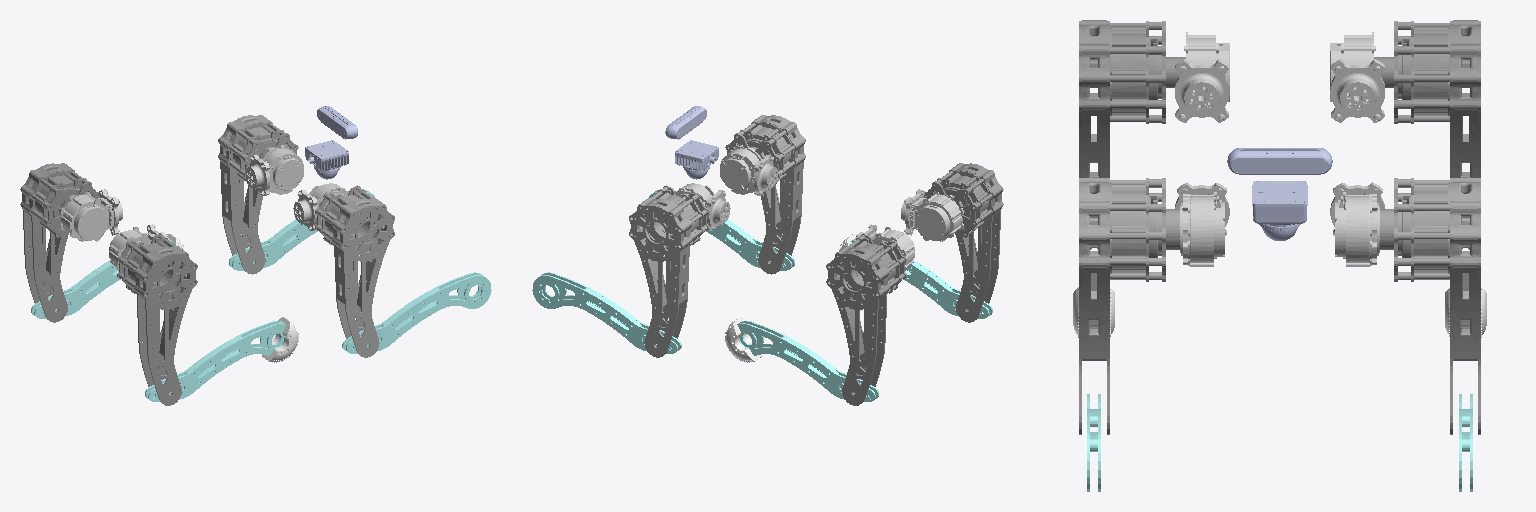
robot.urdf — EVA02_description:
<?xml version='1.0' encoding='UTF-8'?>
<robot name="EVA02_description">

  <!-- body========================================= -->
  <link name="base">
    <inertial>
      <origin xyz="0.011858 0.000475 0.060237" rpy="0 0 0" />
      <mass value="2.03" />
      <inertia ixx="0.013522598" ixy="-0.000075348" ixz="-0.001446647" iyy="0.031044571"
        iyz="-0.000032615" izz="0.035960924" />
    </inertial>
    <visual>
      <origin xyz="0 0 0" rpy="0 0 0" />
      <geometry>
        <mesh filename="package://EVA02_description/meshes_obj/body.obj" />
      </geometry>
      <material name="">
        <color rgba="0.698039215686274 0.698039215686274 0.698039215686274 1" />
      </material>
    </visual>
    <collision>
      <origin xyz="0 0 0.07" rpy="0 0 0" />
      <geometry>
        <box size="0.50 0.22 0.14" />
      </geometry>
    </collision>
    <collision>
      <origin xyz="0.22 0 0.15" rpy="0 0 0" />
      <geometry>
        <box size="0.13 0.09 0.025" />
      </geometry>
    </collision>
  </link>

  <!-- camera======================================== -->
  <link name="camera">
    <inertial>
      <origin xyz="0.013017 0 0" rpy="0 0 0" />
      <mass value="0.10" />
      <inertia ixx="1.19066e-4" ixy="3.2e-8" ixz="-1.18e-7" iyy="2.8028e-5" iyz="5.6e-8"
        izz="1.35348e-4" />
    </inertial>
    <visual>
      <origin xyz="0 0 0" rpy="0 0 0" />
      <geometry>
        <mesh filename="package://EVA02_description/meshes_obj/camera.obj" />
      </geometry>
      <material name="">
        <color rgba="0.792156862745098 0.819607843137255 0.933333333333333 1" />
      </material>
    </visual>
    <collision>
      <origin xyz="0 0 0" rpy="0 0 0" />
      <geometry>
        <box size="0.03 0.12 0.03" />
      </geometry>
    </collision>
  </link>

  <joint name="camera_joint" type="fixed">
    <origin xyz="0.28698 0.0 0.1895" rpy="0 0 0" />
    <parent link="base" />
    <child link="camera" />
    <axis xyz="0 0 0" />
  </joint>

  <!-- lidar========================================= -->
  <link name="lidar">
    <inertial>
      <origin xyz="-0.000200 0.000006 0.017467" rpy="0 0 0" />
      <mass value="0.265" />
      <inertia ixx="0.000123746" ixy="0.000000011" ixz="0.000000020" iyy="0.000133349"
        iyz="0.000000035" izz="0.000132274" />
    </inertial>
    <visual>
      <origin xyz="0 0 0" rpy="0 0 0" />
      <geometry>
        <mesh filename="package://EVA02_description/meshes_obj/lidar.obj" />
      </geometry>
      <material name="">
        <color rgba="0.792156862745098 0.819607843137255 0.929411764705882 1" />
      </material>
    </visual>
    <collision>
      <origin xyz="0 0 0.02" rpy="0 0 0" />
      <geometry>
        <box size="0.065 0.065 0.035" />
      </geometry>
    </collision>
    <collision>
      <origin xyz="0 0 0.00" rpy="0 0 0" />
      <geometry>
        <sphere radius="0.0225" />
      </geometry>
    </collision>
  </link>

  <joint name="lidar_joint" type="fixed">
    <origin xyz="0.264 0.0 0.0985" rpy="0 0 0" />
    <parent link="base" />
    <child link="lidar" />
    <axis xyz="0 0 0" />
  </joint>

  <!-- front left leg========================================= -->
  <link name="FL_hip">
    <inertial>
      <origin xyz="-0.013264 -0.000827 0.000642" rpy="0 0 0" />
      <mass value="0.606" />
      <inertia ixx="0.000428373" ixy="0.000001930" ixz="-0.000005377" iyy="0.000778855"
        iyz="0.000000361" izz="0.000676550" />
    </inertial>
    <visual>
      <origin xyz="0 0 0" rpy="0 0 0" />
      <geometry>
        <mesh filename="package://EVA02_description/meshes_obj/FL_hip.obj" />
      </geometry>
      <material name="">
        <color rgba="0.850980392156863 0.850980392156863 0.850980392156863 1" />
      </material>
    </visual>
    <collision>
      <origin xyz="0 0.09 0" rpy="1.57079632679 0 0" />
      <geometry>
        <cylinder radius="0.060" length="0.11" />
      </geometry>
    </collision>
  </link>

  <joint name="FL_hip_joint" type="revolute">
    <origin xyz="0.2181 0.09179 0.06815" rpy="0 0 0" />
    <parent link="base" />
    <child link="FL_hip" />
    <axis xyz="1 0 0" />
    <limit lower="-1.0472" upper="1.0472" effort="17.0" velocity="35.0" />
  </joint>

  <link name="FL_thigh">
    <inertial>
      <origin xyz="-0.001468 -0.034831 -0.021338" rpy="0 0 0" />
      <mass value="1.542" />
      <inertia ixx="0.007323179" ixy="0.000090584" ixz="-0.000250133" iyy="0.006895677"
        iyz="0.001140375" izz="0.002574539" />
    </inertial>
    <visual>
      <origin xyz="0 0 0" rpy="0 0 0" />
      <geometry>
        <mesh filename="package://EVA02_description/meshes_obj/FL_thigh.obj" />
      </geometry>
      <material name="">
        <color rgba="0.698039215686274 0.698039215686274 0.698039215686274 1" />
      </material>
    </visual>
    <collision>
      <origin xyz="0 0 -0.120" rpy="0 0 0" />
      <geometry>
        <box size="0.050 0.044 0.250" />
      </geometry>
    </collision>
  </link>

  <joint name="FL_thigh_joint" type="revolute">
    <origin xyz="0 0.1271 0" rpy="0 0 0" />
    <parent link="FL_hip" />
    <child link="FL_thigh" />
    <axis xyz="0 1 0" />
    <limit lower="-1.5708" upper="3.4907" effort="17.0" velocity="35.0" />
  </joint>

  <link name="FL_calf">
    <inertial>
      <origin xyz="0.005417 -0.000207 -0.130693" rpy="0 0 0" />
      <mass value="0.227" />
      <inertia ixx="0.001988633" ixy="0.000000287" ixz="0.000050642" iyy="0.002045846"
        iyz="-0.000002846" izz="0.000076486" />
    </inertial>
    <visual>
      <origin xyz="0 0 0" rpy="0 0 0" />
      <geometry>
        <mesh filename="package://EVA02_description/meshes_obj/FL_calf.obj" />
      </geometry>
      <material name="">
        <color rgba="0.752941176470588 1 1 1" />
      </material>
    </visual>
    <collision name="FL_calf_knee">
      <origin xyz="-0.0048 0 -0.02" rpy="0 0.131 0" />
      <geometry>
        <box size="0.048 0.019 0.05" />
      </geometry>
    </collision>
    <collision name="FL_calf_main">
      <origin xyz="0.006 0 -0.1" rpy="0 -0.185 0" />
      <geometry>
        <box size="0.047 0.019 0.13" />
      </geometry>
    </collision>
    <collision name="FL_calf_ankle">
      <origin xyz="0.015 0 -0.185" rpy="0 0.08 0" />
      <geometry>
        <box size="0.05 0.019 0.065" />
      </geometry>
    </collision>
  </link>

  <joint name="FL_calf_joint" type="revolute">
    <origin xyz="0 0 -0.240" rpy="0 0 0" />
    <parent link="FL_thigh" />
    <child link="FL_calf" />
    <axis xyz="0 1 0" />
    <limit lower="-2.7227" upper="-0.83776" effort="60.0" velocity="17.0" />
  </joint>

  <link name="FL_foot">
    <inertial>
      <origin xyz="-0.0141710 0.000000008 -0.014459" rpy="0 0 0" />
      <mass value="0.080" />
      <inertia ixx="0.000042354" ixy="0.000000000" ixz="0.000016450" iyy="0.000053066"
        iyz="0.000000000" izz="0.000043020" />
    </inertial>
    <visual>
      <origin xyz="0 0 0" rpy="0 0 0" />
      <geometry>
        <mesh filename="package://EVA02_description/meshes_obj/FL_foot.obj" />
      </geometry>
      <material name="">
        <color rgba="0.501960784313725 0.501960784313725 0.501960784313725 1" />
      </material>
    </visual>
    <collision name="FL_calf_tip">
      <origin xyz="0.00 0 0.0" rpy="1.57079632679 0 0" />
      <geometry>
        <cylinder radius="0.045" length="0.0375" />
      </geometry>
    </collision>
  </link>

  <joint name="FL_foot_joint" type="fixed" dont_collapse="true">
    <origin xyz="0 0 -0.250" rpy="0 0 0" />
    <parent link="FL_calf" />
    <child link="FL_foot" />
    <axis xyz="0 0 0" />
  </joint>

  <!-- front right leg========================================= -->
  <link name="FR_hip">
    <inertial>
      <origin xyz="-0.013264 0.000827 0.000642" rpy="0 0 0" />
      <mass value="0.606" />
      <inertia ixx="0.000428373" ixy="-0.000001930" ixz="-0.000005377" iyy="0.000778855"
        iyz="-0.000000361" izz="0.000676550" />
    </inertial>
    <visual>
      <origin xyz="0 0 0" rpy="0 0 0" />
      <geometry>
        <mesh filename="package://EVA02_description/meshes_obj/FL_hip.obj" scale="1 -1 1" />
      </geometry>
      <material name="">
        <color rgba="0.850980392156863 0.850980392156863 0.850980392156863 1" />
      </material>
    </visual>
    <collision>
      <origin xyz="0 -0.09 0" rpy="1.57079632679 0 0" />
      <geometry>
        <cylinder radius="0.060" length="0.11" />
      </geometry>
    </collision>
  </link>

  <joint name="FR_hip_joint" type="revolute">
    <origin xyz="0.2181 -0.09179 0.06815" rpy="0 0 0" />
    <parent link="base" />
    <child link="FR_hip" />
    <axis xyz="1 0 0" />
    <limit lower="-1.0472" upper="1.0472" effort="17.0" velocity="35.0" />
  </joint>

  <link name="FR_thigh">
    <inertial>
      <origin xyz="-0.001468 0.034831 -0.021338" rpy="0 0 0" />
      <mass value="1.542" />
      <inertia ixx="0.007323179" ixy="-0.000090584" ixz="-0.000250133" iyy="0.006895677"
        iyz="-0.001140375" izz="0.002574539" />
    </inertial>
    <visual>
      <origin xyz="0 0 0" rpy="0 0 0" />
      <geometry>
        <mesh filename="package://EVA02_description/meshes_obj/FL_thigh.obj" scale="1 -1 1" />
      </geometry>
      <material name="">
        <color rgba="0.698039215686274 0.698039215686274 0.698039215686274 1" />
      </material>
    </visual>
    <collision>
      <origin xyz="0 0 -0.120" rpy="0 0 0" />
      <geometry>
        <box size="0.050 0.044 0.250" />
      </geometry>
    </collision>
  </link>

  <joint name="FR_thigh_joint" type="revolute">
    <origin xyz="0 -0.1271 0" rpy="0 0 0" />
    <parent link="FR_hip" />
    <child link="FR_thigh" />
    <axis xyz="0 1 0" />
    <limit lower="-1.5708" upper="3.4907" effort="17.0" velocity="35.0" />
  </joint>

  <link name="FR_calf">
    <inertial>
      <origin xyz="0.005417 0.000207 -0.130693" rpy="0 0 0" />
      <mass value="0.227" />
      <inertia ixx="0.001988633" ixy="-0.000000287" ixz="0.000050642" iyy="0.002045846"
        iyz="0.000002846" izz="0.000076486" />
    </inertial>
    <visual>
      <origin xyz="0 0 0" rpy="0 0 0" />
      <geometry>
        <mesh filename="package://EVA02_description/meshes_obj/FL_calf.obj" scale="1 -1 1" />
      </geometry>
      <material name="">
        <color rgba="0.752941176470588 1 1 1" />
      </material>
    </visual>
    <collision name="FR_calf_knee">
      <origin xyz="-0.0048 0 -0.02" rpy="0 0.131 0" />
      <geometry>
        <box size="0.048 0.019 0.05" />
      </geometry>
    </collision>
    <collision name="FR_calf_main">
      <origin xyz="0.006 0 -0.1" rpy="0 -0.185 0" />
      <geometry>
        <box size="0.047 0.019 0.13" />
      </geometry>
    </collision>
    <collision name="FR_calf_ankle">
      <origin xyz="0.015 0 -0.185" rpy="0 0.08 0" />
      <geometry>
        <box size="0.05 0.019 0.065" />
      </geometry>
    </collision>
  </link>

  <joint name="FR_calf_joint" type="revolute">
    <origin xyz="0 0 -0.240" rpy="0 0 0" />
    <parent link="FR_thigh" />
    <child link="FR_calf" />
    <axis xyz="0 1 0" />
    <limit lower="-2.7227" upper="-0.83776" effort="60.0" velocity="17.0" />
  </joint>

  <link name="FR_foot">
    <inertial>
      <origin xyz="-0.014171 -0.000000008 -0.014459" rpy="0 0 0" />
      <mass value="0.080" />
      <inertia ixx="0.000042354" ixy="0.0" ixz="0.000016450" iyy="0.000053066" iyz="0.0"
        izz="0.000043020" />
    </inertial>
    <visual>
      <origin xyz="0 0 0" rpy="0 0 0" />
      <geometry>
        <mesh filename="package://EVA02_description/meshes_obj/FL_foot.obj" scale="1 -1 1" />
      </geometry>
      <material name="">
        <color rgba="0.501960784313725 0.501960784313725 0.501960784313725 1" />
      </material>
    </visual>
    <collision name="FR_calf_tip">
      <origin xyz="0.0 0.0 0.0" rpy="1.57079632679 0 0" />
      <geometry>
        <cylinder radius="0.045" length="0.0375" />
      </geometry>
    </collision>
  </link>

  <joint name="FR_foot_joint" type="fixed" dont_collapse="true">
    <origin xyz="0 0 -0.250" rpy="0 0 0" />
    <parent link="FR_calf" />
    <child link="FR_foot" />
    <axis xyz="0 0 0" />
  </joint>

  <!-- rear left leg========================================= -->
  <link name="RL_hip">
    <inertial>
      <origin xyz="0.011265 -0.004382 -0.000042" rpy="0 0 0" />
      <mass value="0.815" />
      <inertia ixx="0.000503754" ixy="-0.000037811" ixz="0.000001175" iyy="0.001002948"
        iyz="0.000000150" izz="0.000864619" />
    </inertial>
    <visual>
      <origin xyz="0 0 0" rpy="0 0 0" />
      <geometry>
        <mesh filename="package://EVA02_description/meshes_obj/RL_hip.obj" />
      </geometry>
      <material name="">
        <color rgba="0.850980392156863 0.850980392156863 0.850980392156863 1" />
      </material>
    </visual>
    <collision>
      <origin xyz="0 0.09 0" rpy="1.57079632679 0 0" />
      <geometry>
        <cylinder radius="0.060" length="0.11" />
      </geometry>
    </collision>
  </link>

  <joint name="RL_hip_joint" type="revolute">
    <origin xyz="-0.2206 0.09179 0.06815" rpy="0 0 0" />
    <parent link="base" />
    <child link="RL_hip" />
    <axis xyz="1 0 0" />
    <limit lower="-1.0472" upper="1.0472" effort="17.0" velocity="35.0" />
  </joint>

  <link name="RL_thigh">
    <inertial>
      <origin xyz="-0.001573 -0.032493 -0.021284" rpy="0 0 0" />
      <mass value="1.536" />
      <inertia ixx="0.007179038" ixy="0.000080461" ixz="-0.000245207" iyy="0.006896888"
        iyz="0.001057598" izz="0.002416899" />
    </inertial>
    <visual>
      <origin xyz="0 0 0" rpy="0 0 0" />
      <geometry>
        <mesh filename="package://EVA02_description/meshes_obj/RL_thigh.obj" />
      </geometry>
      <material name="">
        <color rgba="0.647058823529412 0.647058823529412 0.647058823529412 1" />
      </material>
    </visual>
    <collision>
      <origin xyz="0 0 -0.120" rpy="0 0 0" />
      <geometry>
        <box size="0.050 0.044 0.250" />
      </geometry>
    </collision>
  </link>

  <joint name="RL_thigh_joint" type="revolute">
    <origin xyz="0 0.1271 0" rpy="0 0 0" />
    <parent link="RL_hip" />
    <child link="RL_thigh" />
    <axis xyz="0 1 0" />
    <limit lower="-1.5708" upper="3.4907" effort="17.0" velocity="35.0" />
  </joint>

  <link name="RL_calf">
    <inertial>
      <origin xyz="0.005417 -0.000207 -0.130693" rpy="0 0 0" />
      <mass value="0.227" />
      <inertia ixx="0.001988633" ixy="-0.000000287" ixz="-0.000050642" iyy="0.002045846"
        iyz="-0.000002846" izz="0.000076486" />
    </inertial>
    <visual>
      <origin xyz="0 0 0" rpy="0 0 0" />
      <geometry>
        <mesh filename="package://EVA02_description/meshes_obj/RL_calf.obj" />
      </geometry>
      <material name="">
        <color rgba="0.752941176470588 1 1 1" />
      </material>
    </visual>
    <collision name="RL_calf_knee">
      <origin xyz="-0.0048 0 -0.02" rpy="0 0.131 0" />
      <geometry>
        <box size="0.048 0.019 0.05" />
      </geometry>
    </collision>
    <collision name="RL_calf_main">
      <origin xyz="0.006 0 -0.1" rpy="0 -0.185 0" />
      <geometry>
        <box size="0.047 0.019 0.13" />
      </geometry>
    </collision>
    <collision name="RL_calf_ankle">
      <origin xyz="0.015 0 -0.185" rpy="0 0.08 0" />
      <geometry>
        <box size="0.05 0.019 0.065" />
      </geometry>
    </collision>
  </link>

  <joint name="RL_calf_joint" type="revolute">
    <origin xyz="0 0 -0.240" rpy="0 0 0" />
    <parent link="RL_thigh" />
    <child link="RL_calf" />
    <axis xyz="0 1 0" />
    <limit lower="-2.7227" upper="-0.83776" effort="60.0" velocity="17.0" />
  </joint>

  <link name="RL_foot">
    <inertial>
      <origin xyz="-0.014171 0.0000000 -0.014459" rpy="0 0 0" />
      <mass value="0.080" />
      <inertia ixx="0.000042354" ixy="0.000000000" ixz="0.000016450" iyy="0.000053066"
        iyz="0.000000000" izz="0.000043020" />
    </inertial>
    <visual>
      <origin xyz="0 0 0" rpy="0 0 0" />
      <geometry>
        <mesh filename="package://EVA02_description/meshes_obj/RL_foot.obj" />
      </geometry>
      <material name="">
        <color rgba="1 1 1 1" />
      </material>
    </visual>
    <collision name="RL_calf_tip">
      <origin xyz="0.0 0.0 0.0" rpy="1.57079632679 0 0" />
      <geometry>
        <cylinder radius="0.045" length="0.0375" />
      </geometry>
    </collision>
  </link>

  <joint name="RL_foot_joint" type="fixed" dont_collapse="true">
    <origin xyz="0 0 -0.250" rpy="0 0 0" />
    <parent link="RL_calf" />
    <child link="RL_foot" />
    <axis xyz="0 0 0" />
  </joint>

  <!-- rear right leg========================================= -->
  <link name="RR_hip">
    <inertial>
      <origin xyz="0.011265 0.004382 -0.000042" rpy="0 0 0" />
      <mass value="0.815" />
      <inertia ixx="0.000503754" ixy="0.000037811" ixz="0.000001175" iyy="0.001002948"
        iyz="-0.000000150" izz="0.000864619" />
    </inertial>
    <visual>
      <origin xyz="0 0 0" rpy="0 0 0" />
      <geometry>
        <mesh filename="package://EVA02_description/meshes_obj/RL_hip.obj" scale="1 -1 1" />
      </geometry>
      <material name="">
        <color rgba="0.850980392156863 0.850980392156863 0.850980392156863 1" />
      </material>
    </visual>
    <collision>
      <origin xyz="0 -0.09 0" rpy="1.57079632679 0 0" />
      <geometry>
        <cylinder radius="0.060" length="0.11" />
      </geometry>
    </collision>
  </link>

  <joint name="RR_hip_joint" type="revolute">
    <origin xyz="-0.2206 -0.09179 0.06815" rpy="0 0 0" />
    <parent link="base" />
    <child link="RR_hip" />
    <axis xyz="1 0 0" />
    <limit lower="-1.0472" upper="1.0472" effort="17.0" velocity="35.0" />
  </joint>

  <link name="RR_thigh">
    <inertial>
      <origin xyz="-0.001573 0.032493 -0.021284" rpy="0 0 0" />
      <mass value="1.536" />
      <inertia ixx="0.007179038" ixy="-0.000080461" ixz="-0.000245207" iyy="0.006896888"
        iyz="-0.001057598" izz="0.002416899" />
    </inertial>
    <visual>
      <origin xyz="0 0 0" rpy="0 0 0" />
      <geometry>
        <mesh filename="package://EVA02_description/meshes_obj/RL_thigh.obj" scale="1 -1 1" />
      </geometry>
      <material name="">
        <color rgba="0.647058823529412 0.647058823529412 0.647058823529412 1" />
      </material>
    </visual>
    <collision>
      <origin xyz="0 0 -0.120" rpy="0 0 0" />
      <geometry>
        <box size="0.050 0.044 0.250" />
      </geometry>
    </collision>
  </link>

  <joint name="RR_thigh_joint" type="revolute">
    <origin xyz="0 -0.1271 0" rpy="0 0 0" />
    <parent link="RR_hip" />
    <child link="RR_thigh" />
    <axis xyz="0 1 0" />
    <limit lower="-1.5708" upper="3.4907" effort="17.0" velocity="35.0" />
  </joint>

  <link name="RR_calf">
    <inertial>
      <origin xyz="0.005417 0.000207 -0.130693" rpy="0 0 0" />
      <mass value="0.227" />
      <inertia ixx="0.001988633" ixy="0.000000287" ixz="-0.000050642" iyy="0.002045846"
        iyz="0.000002846" izz="0.000076486" />
    </inertial>
    <visual>
      <origin xyz="0 0 0" rpy="0 0 0" />
      <geometry>
        <mesh filename="package://EVA02_description/meshes_obj/RL_calf.obj" scale="1 -1 1" />
      </geometry>
      <material name="">
        <color rgba="0.752941176470588 1 1 1" />
      </material>
    </visual>
    <collision name="RR_calf_knee">
      <origin xyz="-0.0048 0 -0.02" rpy="0 0.131 0" />
      <geometry>
        <box size="0.048 0.019 0.05" />
      </geometry>
    </collision>
    <collision name="RR_calf_main">
      <origin xyz="0.006 0 -0.1" rpy="0 -0.185 0" />
      <geometry>
        <box size="0.047 0.019 0.13" />
      </geometry>
    </collision>
    <collision name="RR_calf_ankle">
      <origin xyz="0.015 0 -0.185" rpy="0 0.08 0" />
      <geometry>
        <box size="0.05 0.019 0.065" />
      </geometry>
    </collision>
  </link>

  <joint name="RR_calf_joint" type="revolute">
    <origin xyz="0 0 -0.240" rpy="0 0 0" />
    <parent link="RR_thigh" />
    <child link="RR_calf" />
    <axis xyz="0 1 0" />
    <limit lower="-2.7227" upper="-0.83776" effort="60.0" velocity="17.0" />
  </joint>

  <link name="RR_foot">
    <inertial>
      <origin xyz="-0.014171 -0.0000000 -0.014459" rpy="0 0 0" />
      <mass value="0.080" />
      <inertia ixx="0.000042354" ixy="0.0" ixz="0.000016450" iyy="0.000053066" iyz="0.0"
        izz="0.000043020" />
    </inertial>
    <visual>
      <origin xyz="0 0 0" rpy="0 0 0" />
      <geometry>
        <mesh filename="package://EVA02_description/meshes_obj/RL_foot.obj" scale="1 -1 1" />
      </geometry>
      <material name="">
        <color rgba="1 1 1 1" />
      </material>
    </visual>
    <collision name="RR_calf_tip">
      <origin xyz="0.0 0.0 0.0" rpy="1.57079632679 0 0" />
      <geometry>
        <cylinder radius="0.045" length="0.0375" />
      </geometry>
    </collision>
  </link>

  <joint name="RR_foot_joint" type="fixed" dont_collapse="true">
    <origin xyz="0 0 -0.250" rpy="0 0 0" />
    <parent link="RR_calf" />
    <child link="RR_foot" />
    <axis xyz="0 0 0" />
  </joint>

</robot>

--- Facts derived from the render (not from the file) ---
The picture shows the robot from 3 angles, left to right: view 1: azimuth 30°, elevation 25°; view 2: azimuth 150°, elevation 25°; view 3: azimuth 270°, elevation 25°; orthographic projection.
Model EVA02_description with 19 links and 18 joints (12 revolute, 6 fixed), rooted at base, posed all joints at 0 but 4 set to mid-range because 0 is outside their limits (FL_calf_joint = -1.78, FR_calf_joint = -1.78, RL_calf_joint = -1.78, RR_calf_joint = -1.78).
Links seen in each view (by area): view 1: FR_thigh, RR_thigh, RL_thigh, FL_thigh, FR_calf, RR_calf, RL_hip, FL_hip, RL_calf, FL_calf, lidar, FR_hip (+3 smaller); view 2: FL_thigh, RL_thigh, RR_thigh, FR_thigh, FL_calf, RL_calf, RR_hip, FR_hip, RR_calf, FR_calf, lidar, FL_hip (+3 smaller); view 3: FL_thigh, FR_thigh, RL_thigh, RR_thigh, RL_hip, RR_hip, FL_hip, FR_hip, lidar, camera, FL_calf, FR_calf.
Link boxes in pixels (bbox=[...]): FR_thigh: bbox=[315, 185, 394, 357]; RR_thigh: bbox=[117, 234, 197, 405]; RL_thigh: bbox=[20, 163, 99, 322]; FL_thigh: bbox=[218, 115, 298, 274]; FR_calf: bbox=[342, 272, 491, 353]; RR_calf: bbox=[145, 321, 285, 401]; RL_hip: bbox=[60, 189, 122, 241]; FL_hip: bbox=[246, 145, 303, 195]; RL_calf: bbox=[31, 238, 172, 318]; FL_calf: bbox=[229, 190, 374, 270]; lidar: bbox=[305, 140, 348, 179]; FR_hip: bbox=[293, 183, 348, 230]; FL_thigh: bbox=[629, 185, 708, 357]; RL_thigh: bbox=[826, 234, 906, 405]; RR_thigh: bbox=[924, 163, 1003, 322]; FR_thigh: bbox=[725, 115, 805, 274]; FL_calf: bbox=[532, 272, 681, 353]; RL_calf: bbox=[737, 321, 878, 401]; RR_hip: bbox=[901, 189, 963, 241]; FR_hip: bbox=[720, 145, 777, 195]; RR_calf: bbox=[851, 238, 992, 318]; FR_calf: bbox=[649, 190, 794, 270]; lidar: bbox=[675, 140, 718, 179]; FL_hip: bbox=[675, 183, 730, 230]; FL_thigh: bbox=[1380, 178, 1480, 434]; FR_thigh: bbox=[1079, 178, 1179, 434]; RL_thigh: bbox=[1374, 20, 1480, 177]; RR_thigh: bbox=[1079, 20, 1185, 177]; RL_hip: bbox=[1330, 32, 1384, 122]; RR_hip: bbox=[1175, 32, 1229, 122]; FL_hip: bbox=[1330, 182, 1384, 266]; FR_hip: bbox=[1175, 182, 1229, 266]; lidar: bbox=[1252, 181, 1307, 240]; camera: bbox=[1227, 148, 1332, 174]; FL_calf: bbox=[1459, 394, 1472, 491]; FR_calf: bbox=[1087, 394, 1100, 491].
Bounding box of the posed robot: 0.7779 × 0.4878 × 0.4005 m (x, y, z).
Meshes: 11 distinct files referenced, 16 mesh visuals loaded (9 OBJ); not drawn: 3 (reference not matched to a file when rendering).
